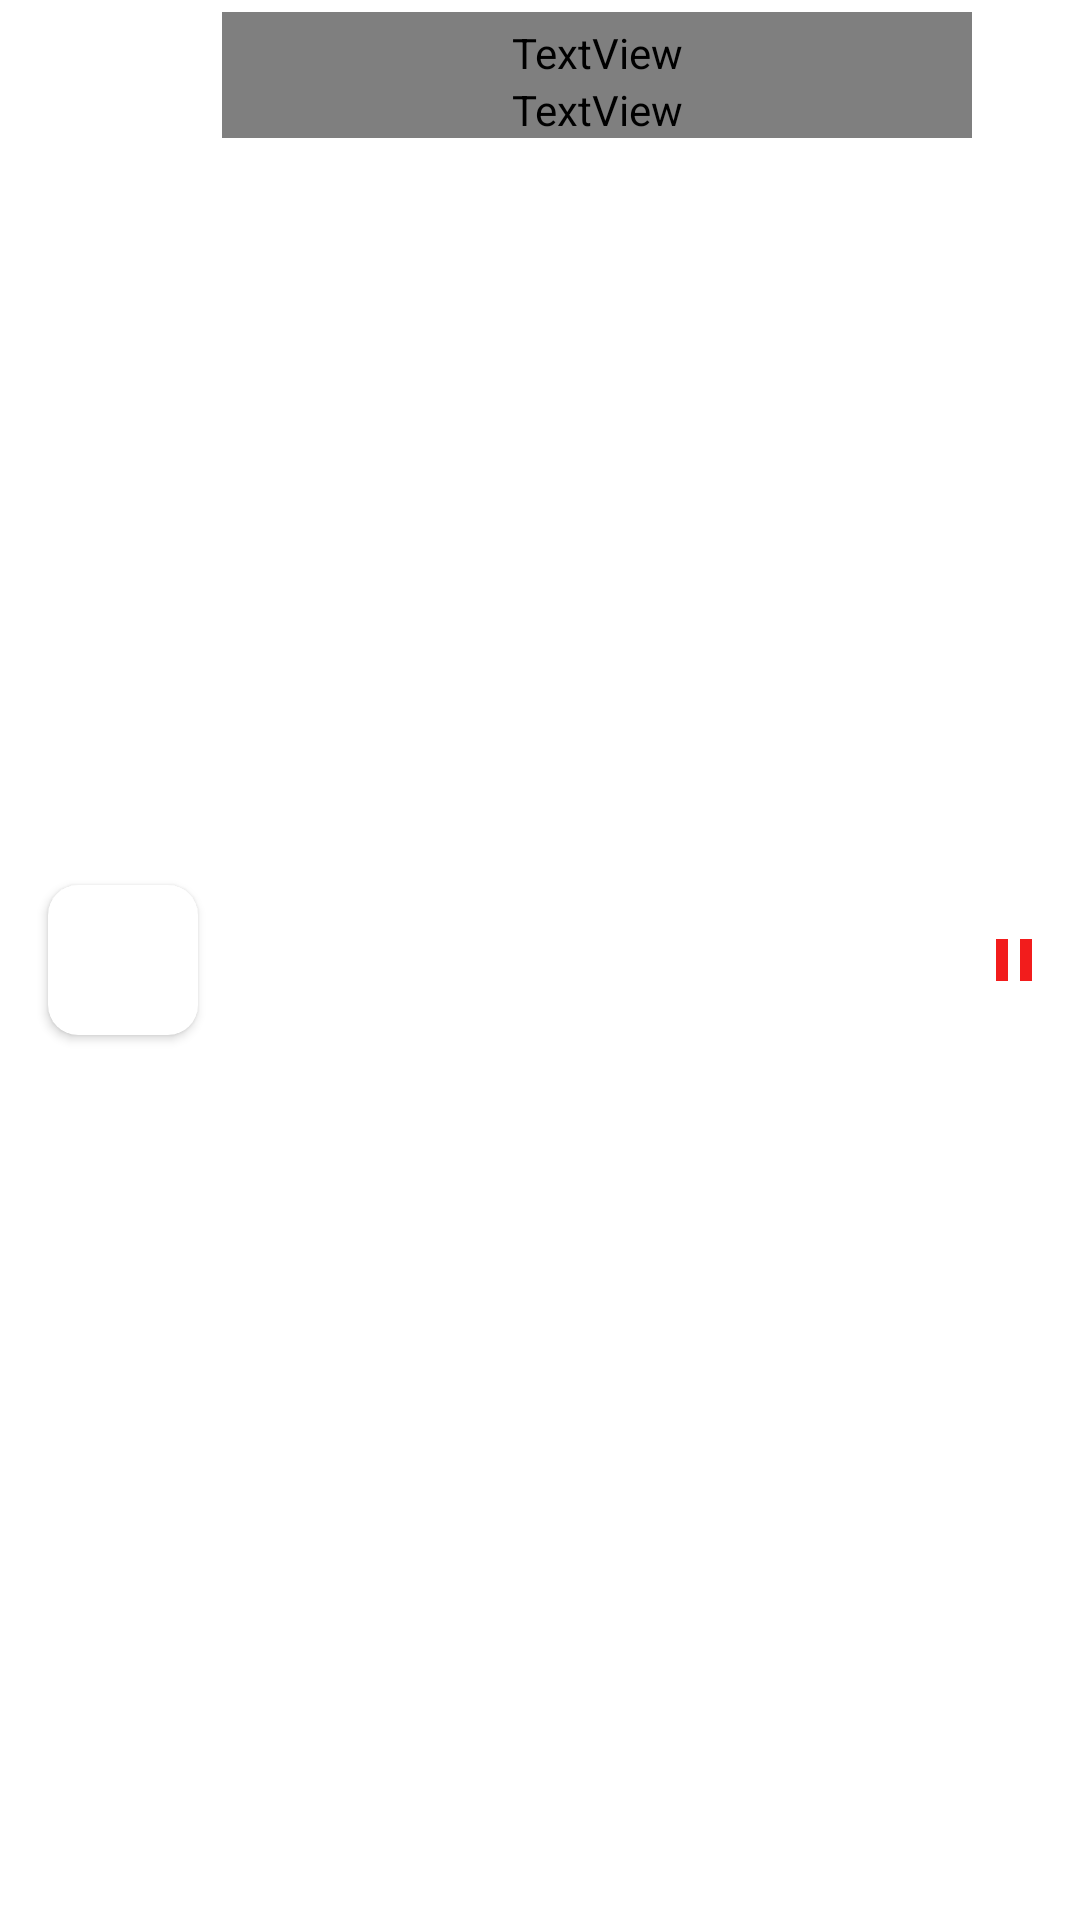

Locate icon controls on the screen. Image size 1080x1920, boxes as {"x1": x1, "y1": y1, "x2": x2, "y2": y2}.
pause: {"x1": 996, "y1": 939, "x2": 1032, "y2": 981}
